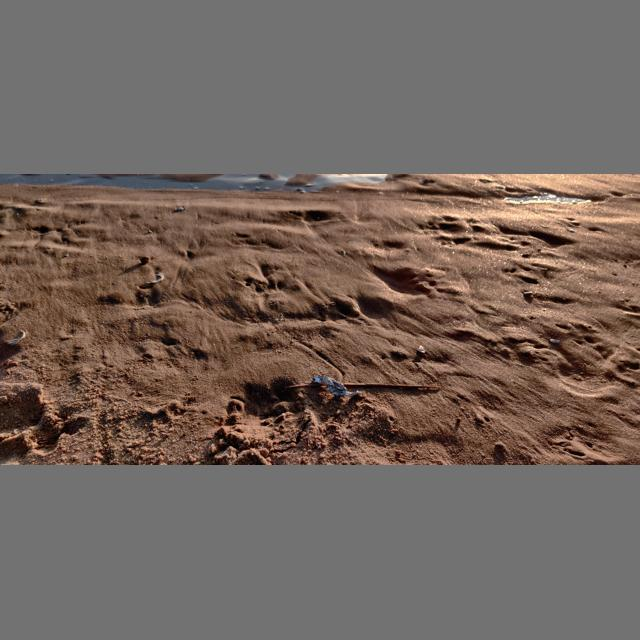litter: (312, 375, 362, 398)
